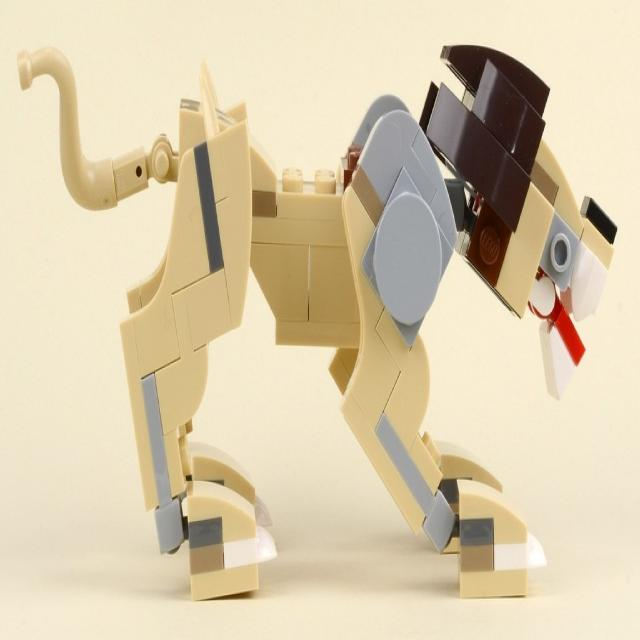Toy: (52, 58, 582, 579)
